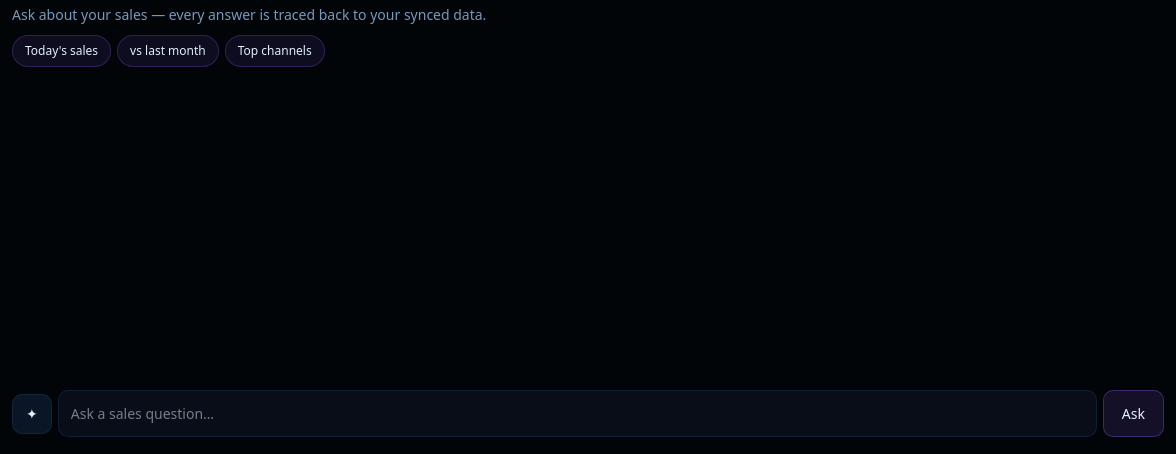
Test case: CopilotConversation › asks the suggestion question, not its short label
What coordinates should you click on to do the following:
click the button named "Suggested questions"
I would click on:
 (32, 414)
Its box is [12,394,52,434].
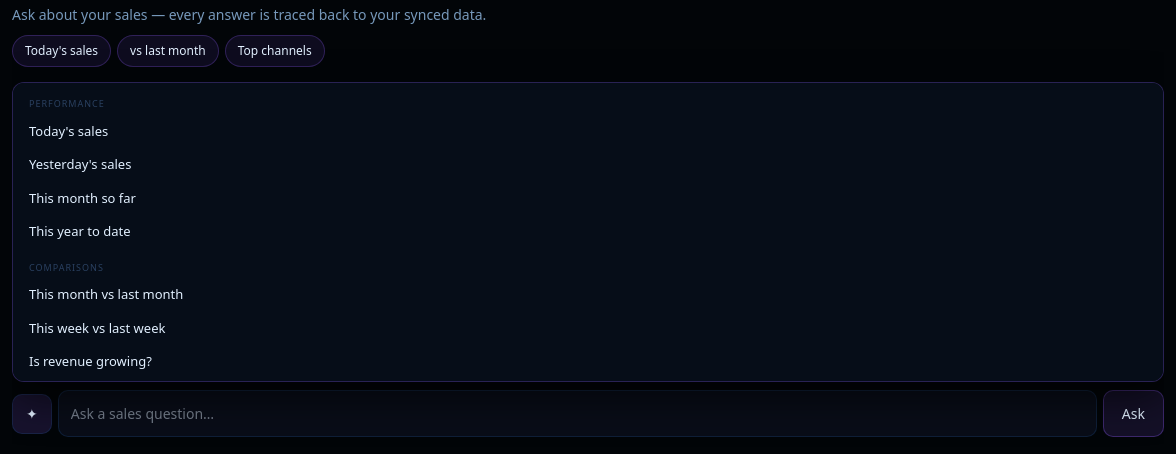
What coordinates should you click on to do the following:
click the option "Today's sales"
I would click on:
 (69, 130)
Its box is [21,114,1155,148].
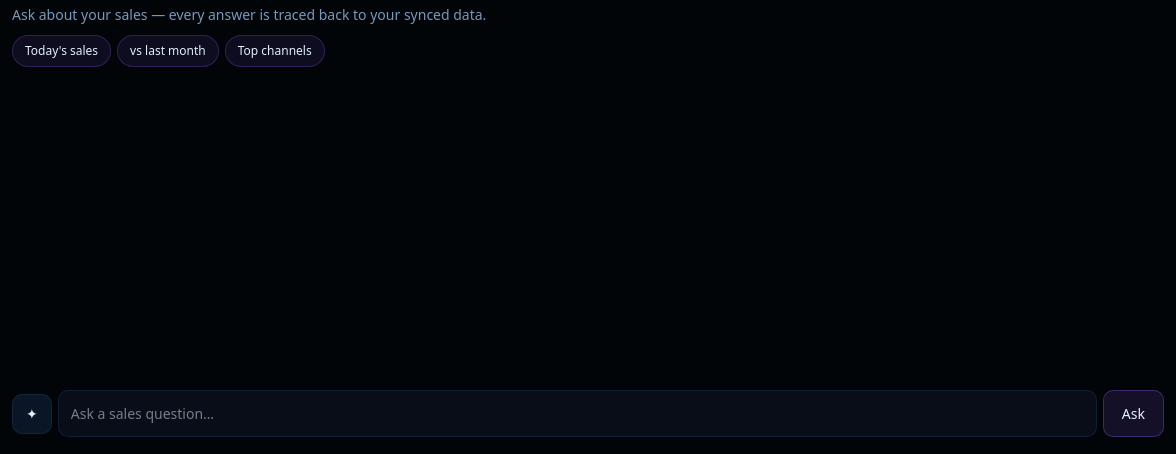
Result: the list is gone
